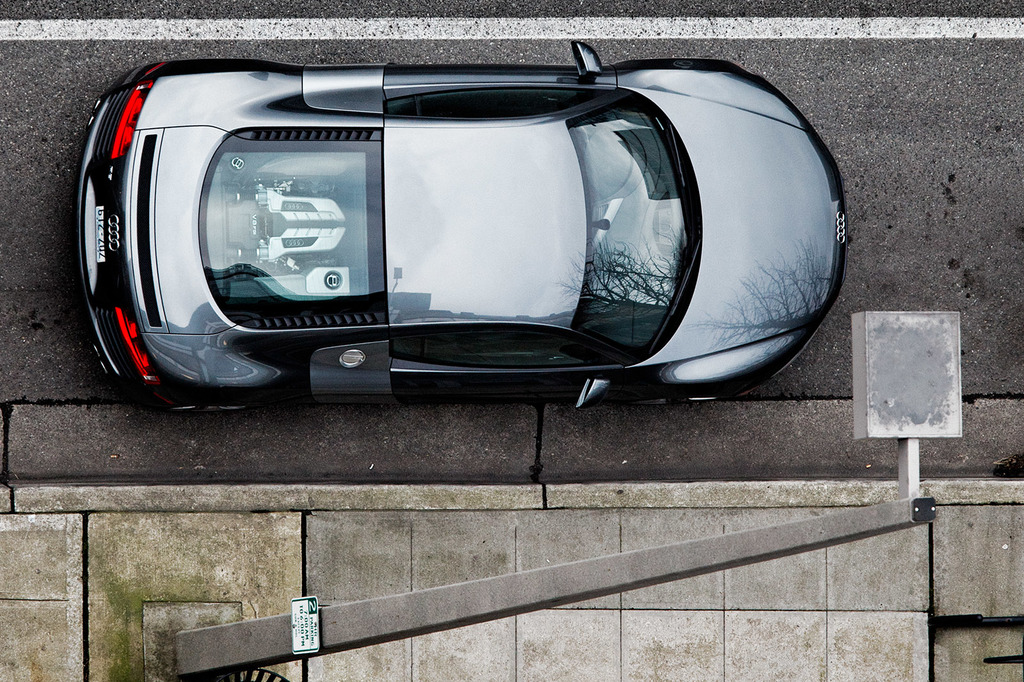Car: (70, 42, 851, 406)
